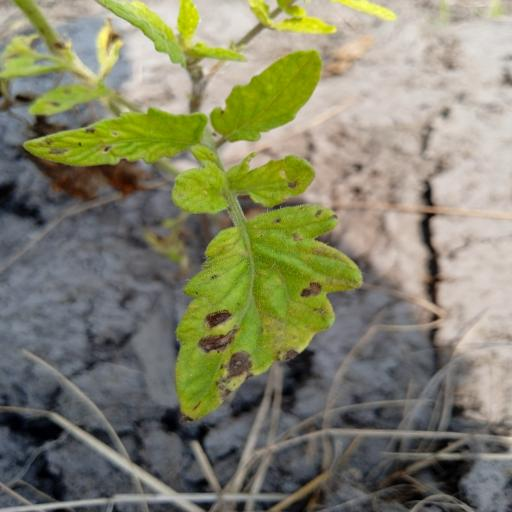Tomato_Brown_Spots: (170, 197, 367, 430), (18, 105, 210, 171), (209, 46, 323, 148)
